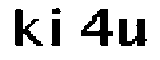4: (78, 5, 114, 52)
i: (46, 6, 67, 50)
k: (7, 5, 43, 50)
u: (117, 14, 150, 53)
